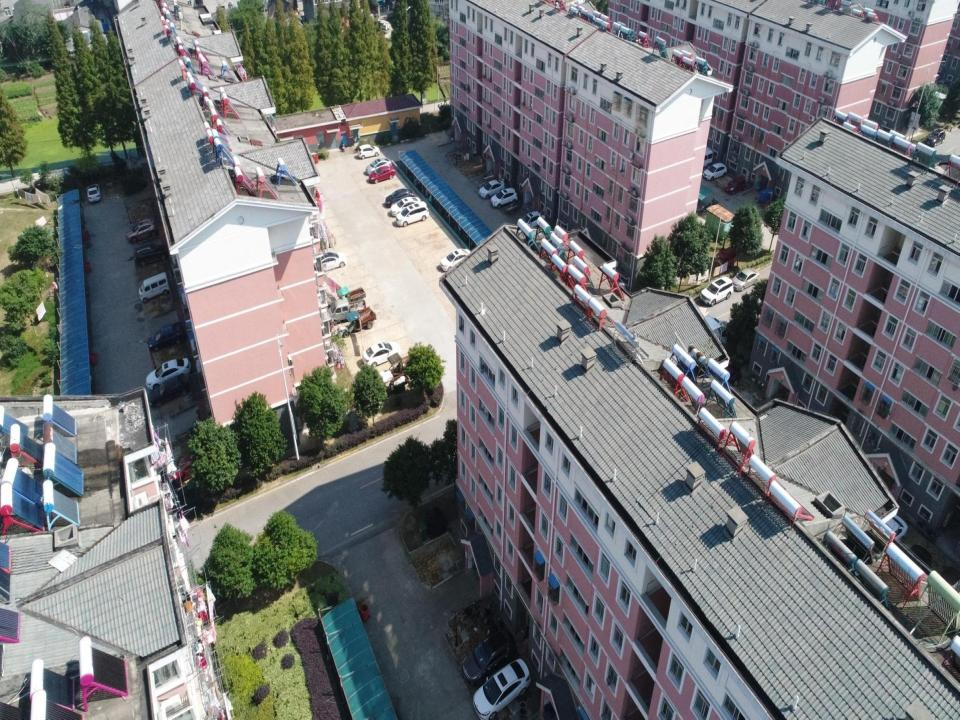car: (473, 658, 532, 719), (462, 628, 511, 686), (148, 373, 192, 409), (146, 358, 191, 390), (166, 455, 206, 485), (148, 324, 187, 352), (699, 276, 734, 306), (362, 341, 398, 367), (134, 242, 169, 267), (396, 201, 430, 226), (125, 220, 157, 244), (881, 513, 908, 541), (732, 266, 760, 292), (313, 252, 348, 272), (440, 248, 471, 270), (490, 188, 519, 209), (390, 197, 420, 217), (386, 188, 414, 209), (478, 178, 506, 199), (702, 162, 728, 182), (369, 165, 396, 184), (924, 127, 946, 148), (518, 210, 542, 229), (725, 175, 747, 194), (366, 158, 392, 173), (357, 144, 381, 159), (86, 182, 102, 203)
truck: (327, 296, 366, 320)
van: (138, 272, 170, 304)
